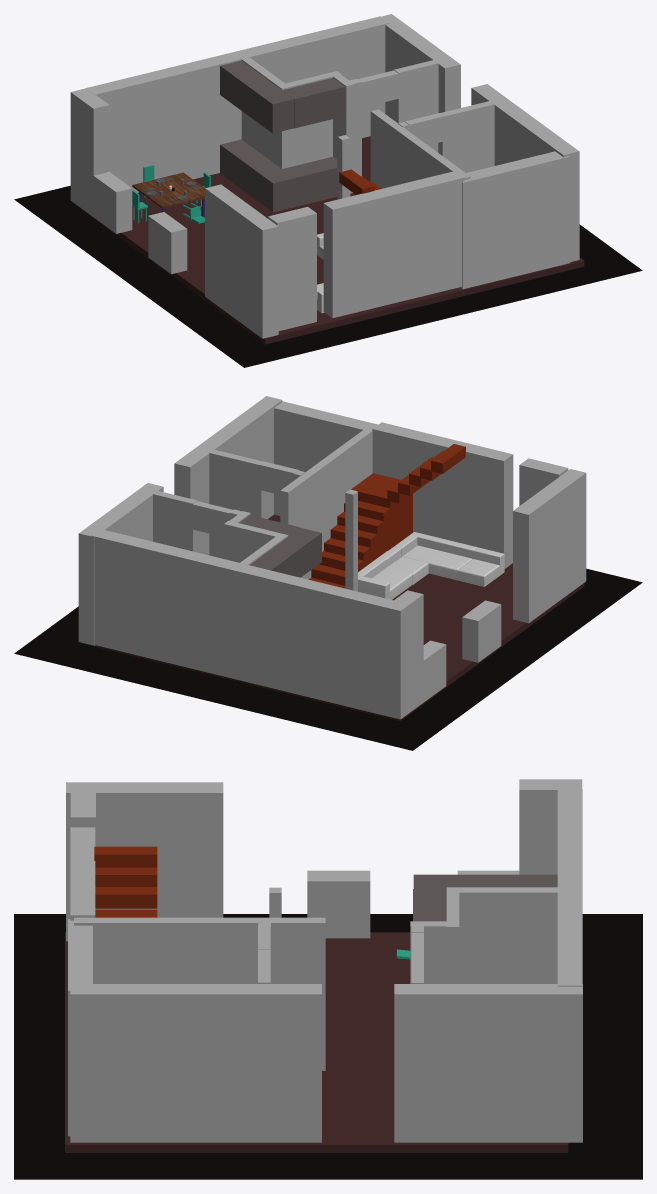
File: mini-house.obj
The picture shows the model from 3 angles, top to bottom: view 1: azimuth 30°, elevation 25°; view 2: azimuth 150°, elevation 25°; view 3: azimuth 270°, elevation 25°; orthographic projection. The views are drawn at different scales.
Visible parts, largest first — view 1: Box2, Plane, Box7, Box6, Box1, pod, Box5, Box8, Box21, Box3, Box, Box15 (+16 smaller); view 2: Box2, Plane, Box7, Box1, pod, Box21, Box5, Box3, Box6, Box, Box18, Box9 (+21 smaller); view 3: Plane, Box5, Box, pod, Box21, Box1, Box4, Box2, Box20, Box3, Box7, Box16 (+9 smaller).
Part boxes in pixels (x1=…): Box2: x1=85, y1=16, x2=389, y2=192; Plane: x1=14, y1=185, x2=642, y2=367; Box7: x1=323, y1=171, x2=464, y2=317; Box6: x1=460, y1=151, x2=570, y2=289; Box1: x1=205, y1=184, x2=278, y2=338; pod: x1=81, y1=136, x2=584, y2=344; Box5: x1=471, y1=84, x2=579, y2=261; Box8: x1=268, y1=206, x2=316, y2=330; Box21: x1=370, y1=109, x2=470, y2=188; Box3: x1=70, y1=88, x2=109, y2=216; Box: x1=381, y1=14, x2=460, y2=119; Box15: x1=219, y1=139, x2=294, y2=212; Box2: x1=90, y1=529, x2=394, y2=715; Plane: x1=14, y1=568, x2=642, y2=750; Box7: x1=372, y1=422, x2=513, y2=568; Box1: x1=513, y1=469, x2=586, y2=623; pod: x1=81, y1=514, x2=584, y2=720; Box21: x1=280, y1=423, x2=377, y2=579; Box5: x1=174, y1=396, x2=282, y2=555; Box3: x1=385, y1=590, x2=423, y2=719; Box6: x1=274, y1=401, x2=372, y2=515; Box: x1=78, y1=483, x2=163, y2=645; Box18: x1=209, y1=449, x2=265, y2=558; Box9: x1=153, y1=490, x2=197, y2=552; Plane: x1=14, y1=914, x2=642, y2=1179; Box5: x1=70, y1=984, x2=321, y2=1142; Box: x1=394, y1=984, x2=582, y2=1142; pod: x1=65, y1=932, x2=568, y2=1152; Box21: x1=74, y1=917, x2=325, y2=1070; Box1: x1=66, y1=782, x2=223, y2=941; Box4: x1=446, y1=887, x2=557, y2=983; Box2: x1=557, y1=789, x2=582, y2=986; Box20: x1=307, y1=870, x2=370, y2=938; Box3: x1=519, y1=779, x2=582, y2=874; Box7: x1=70, y1=827, x2=95, y2=920; Box16: x1=413, y1=874, x2=557, y2=888.
Bounding box in the file's own units: 10 × 3.26 × 10.
